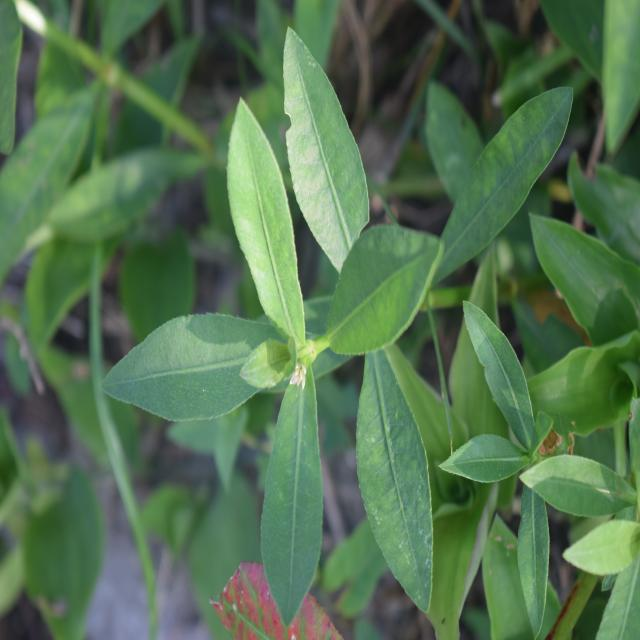Alligatorweed: (121, 69, 475, 572)
